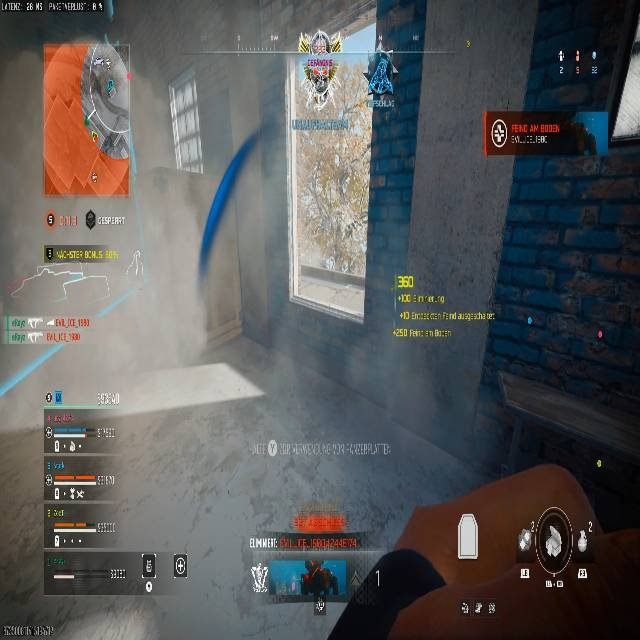player: (304, 560, 334, 614)
